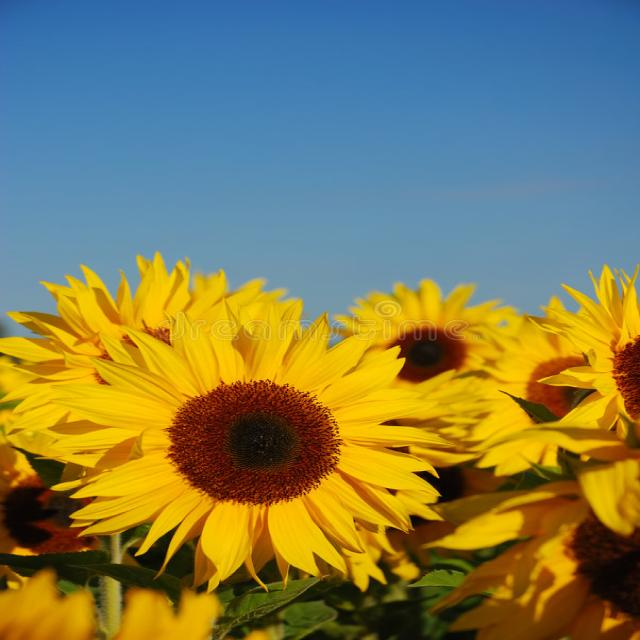sunflower: (28, 290, 441, 590), (339, 269, 519, 429)
